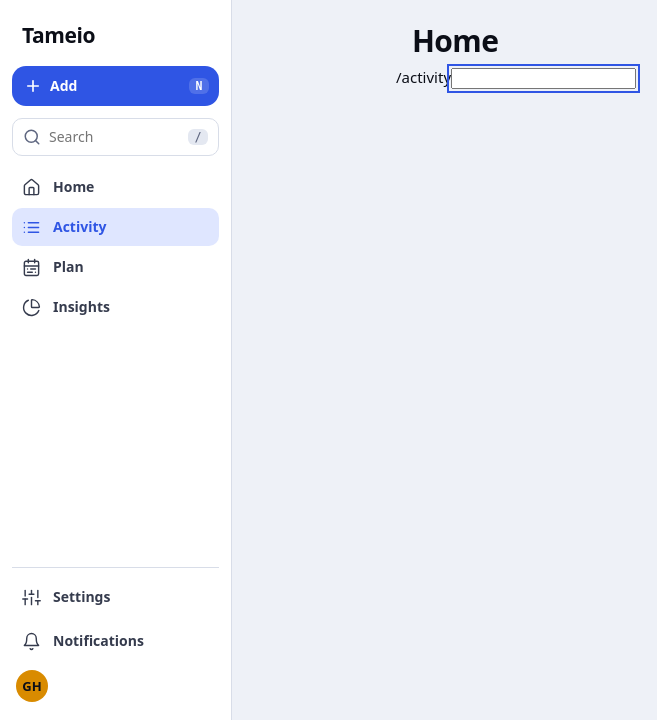
Test: after Cmd K from a field, closing returns focus to that field; after a click it stays in the search field
Expected: the navigation bar named "Main" is shown, left=0, top=0, right=232, bottom=719
Type keys "{Meta>}k{/Meta}"
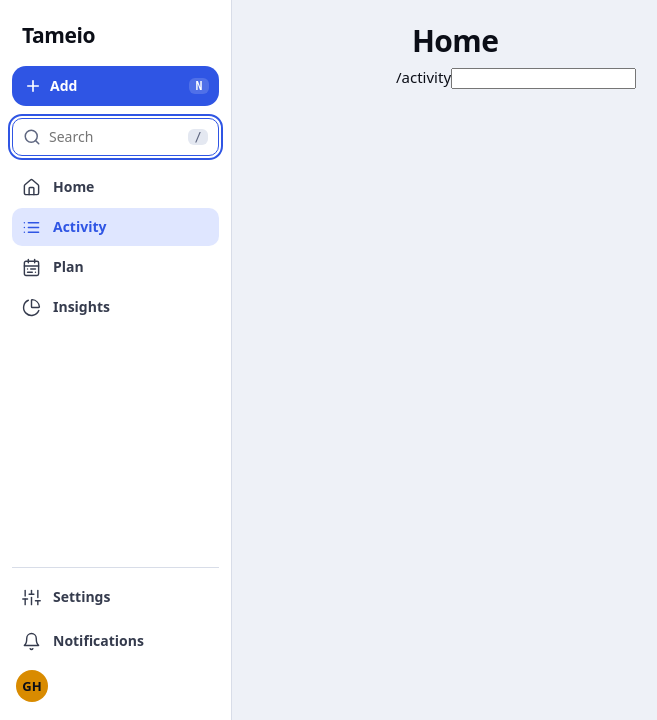
Press Escape
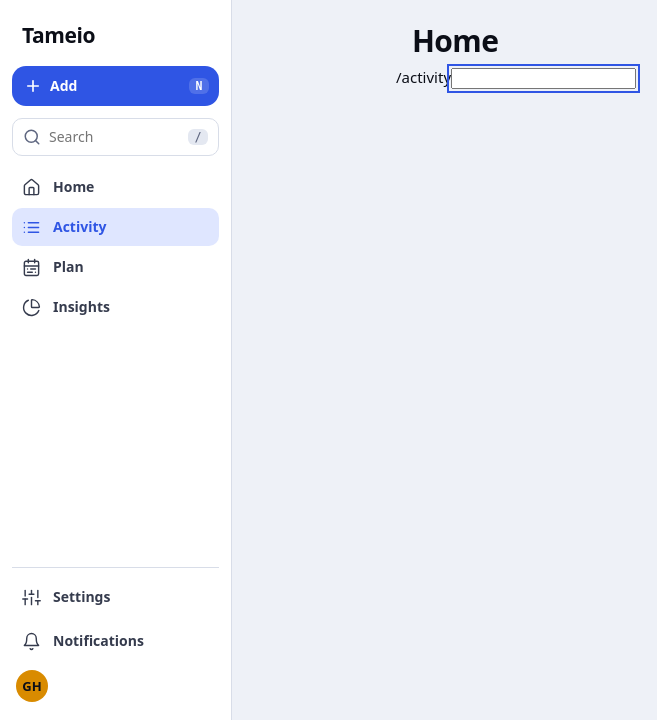
Click the dropdown labelled "Search" at (114, 137), box left=49, top=119, right=180, bottom=155
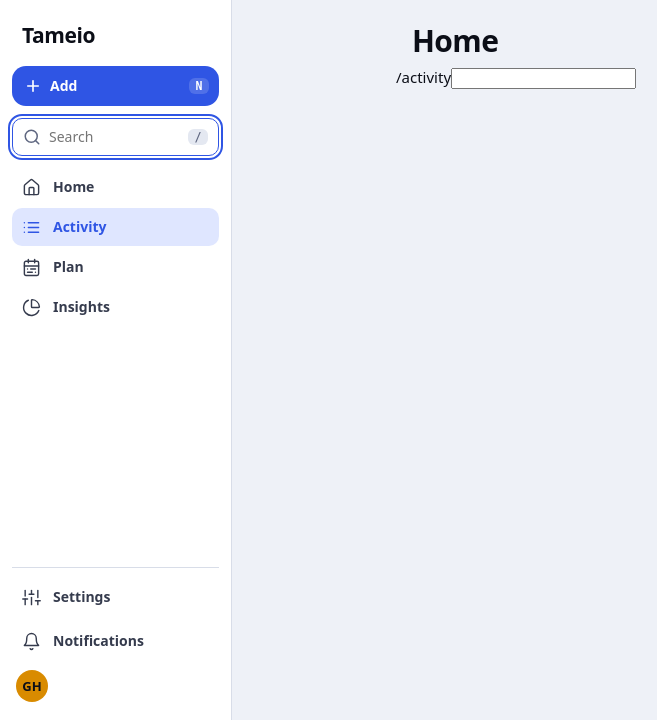
Press Escape
Type keys "x"
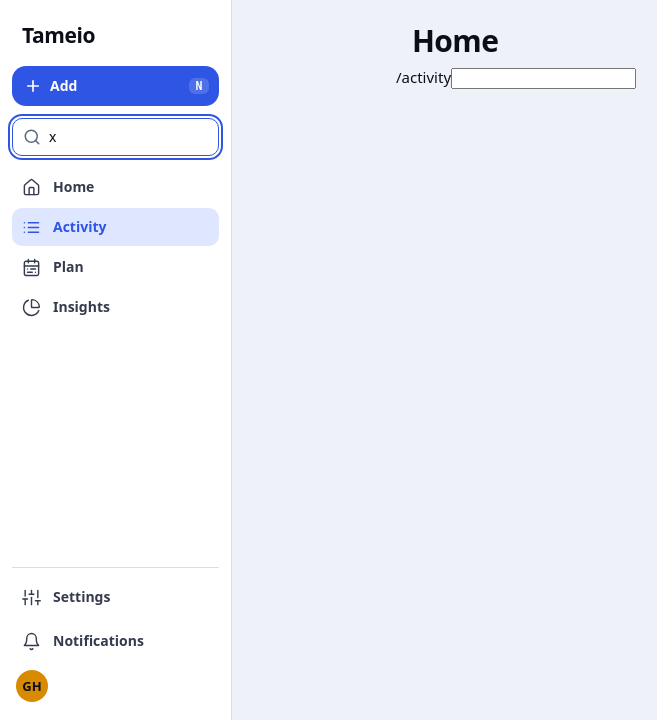
Expected: the dropdown named "Search" holds "x", left=49, top=119, right=208, bottom=155
